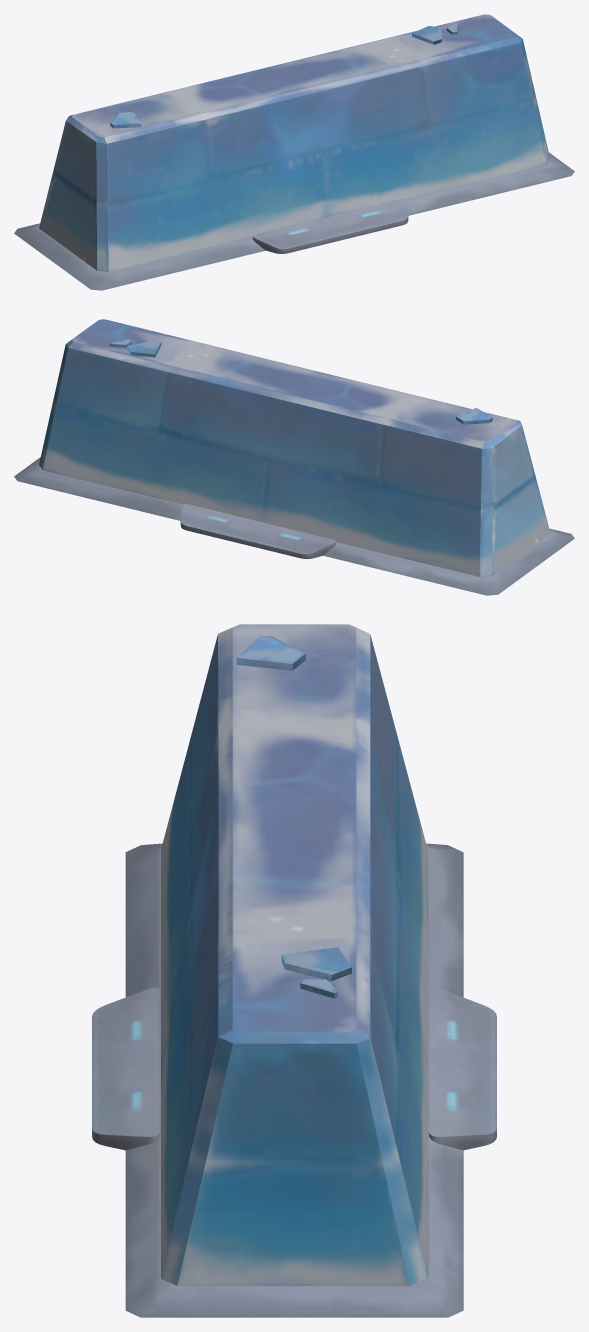
Rendered from pref_sm_beach_winter_icewall03_lv3.fbx.
3 views of the same model, one above another, from view 1: azimuth 30°, elevation 25°; view 2: azimuth 150°, elevation 25°; view 3: azimuth 270°, elevation 25° (orthographic). The views are drawn at different scales.
Parts seen in each view (by area): view 1: pref_sm_beach_winter_icewall03_lv3; view 2: pref_sm_beach_winter_icewall03_lv3; view 3: pref_sm_beach_winter_icewall03_lv3.
Part boxes in pixels (bbox=[...]): pref_sm_beach_winter_icewall03_lv3: bbox=[14, 14, 574, 290]; pref_sm_beach_winter_icewall03_lv3: bbox=[14, 319, 574, 595]; pref_sm_beach_winter_icewall03_lv3: bbox=[92, 624, 496, 1317].
Bounding box in the file's own units: 7.08 × 1.82 × 2.56.
